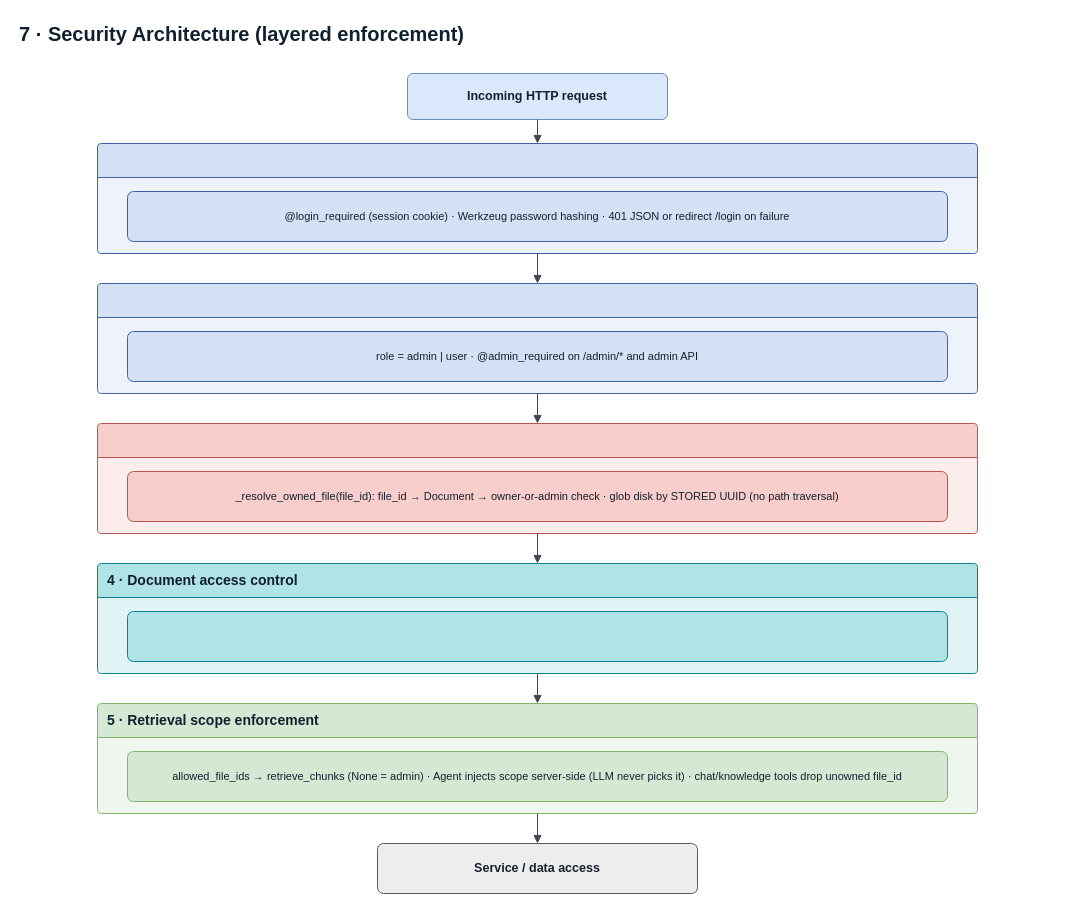
Some shapes in this 1074 by 911 pixel diagram are drawn without their labels. Here are the shapes that lost their labels. From the top down, the box of each, then its label:
(96, 142, 978, 254): 1 · Authentication — Flask-Login
(96, 282, 978, 394): 2 · Authorization
(96, 422, 978, 534): 3 · Ownership validation
(126, 610, 948, 662): lists + artifacts scoped to current_user · admins see all
